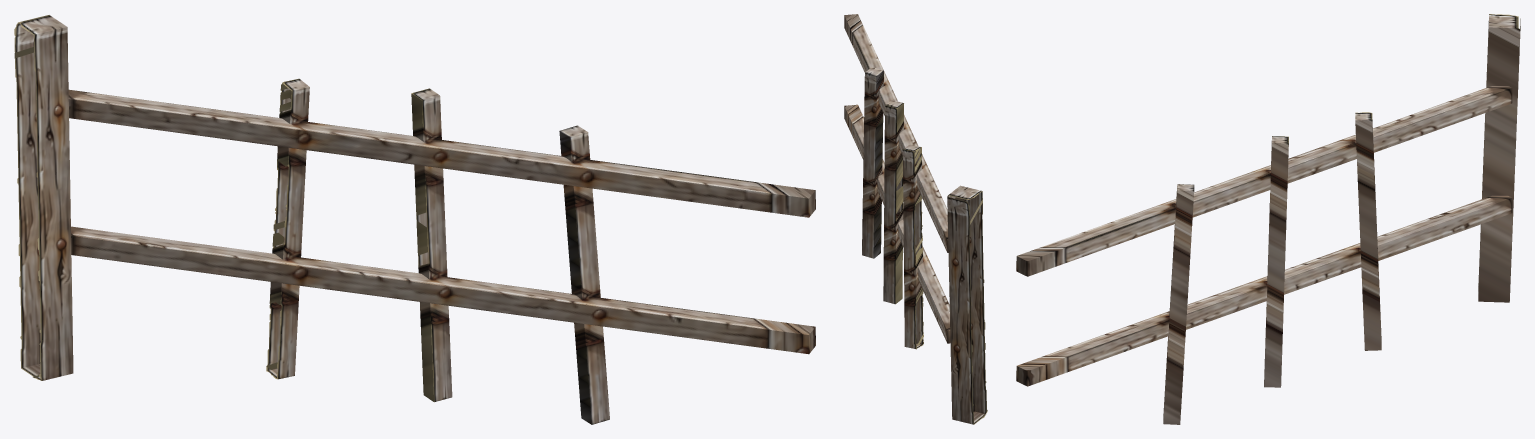
The model's file is fence_07.glb.
3 views of the same model, side by side, from view 1: azimuth 30°, elevation 25°; view 2: azimuth 150°, elevation 25°; view 3: azimuth 270°, elevation 25° (orthographic). The views are drawn at different scales.
Parts seen in each view (by area): view 1: fence_07_game; view 2: fence_07_game; view 3: fence_07_game.
Part boxes in pixels (x1=…): fence_07_game: x1=14, y1=15, x2=815, y2=424; fence_07_game: x1=844, y1=14, x2=987, y2=424; fence_07_game: x1=1016, y1=14, x2=1520, y2=424.
Size of the model in its own units: 1.9 by 1.25 by 2.08.
1 material, 1 textured.
